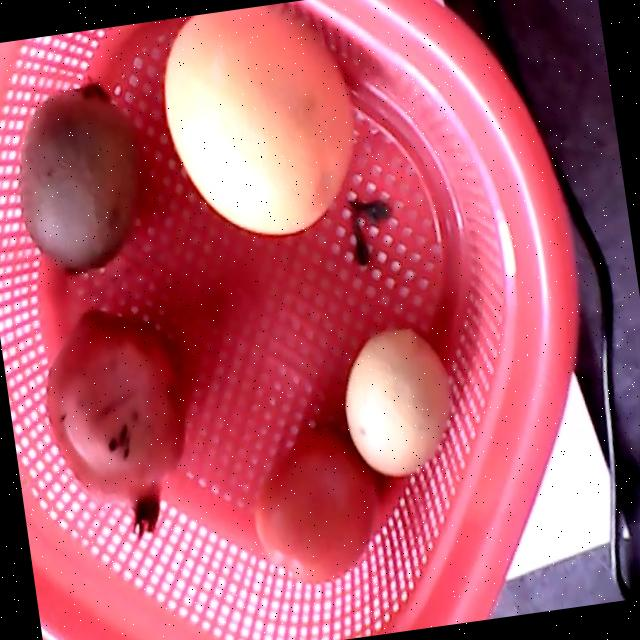kiwi: (21, 82, 147, 279)
orange: (167, 5, 355, 234), (346, 330, 452, 475)
pomegranate: (47, 309, 182, 543)
tomato: (259, 427, 375, 585)
